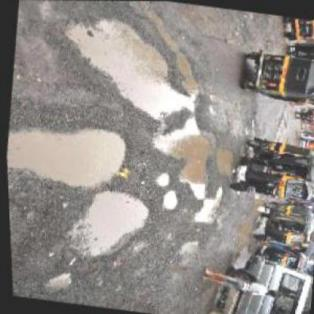Hueco: (56, 10, 216, 126), (5, 115, 132, 194), (144, 110, 220, 205), (64, 186, 153, 264), (189, 183, 226, 226), (209, 144, 236, 178), (41, 270, 73, 295), (159, 189, 180, 213), (154, 170, 171, 186)
